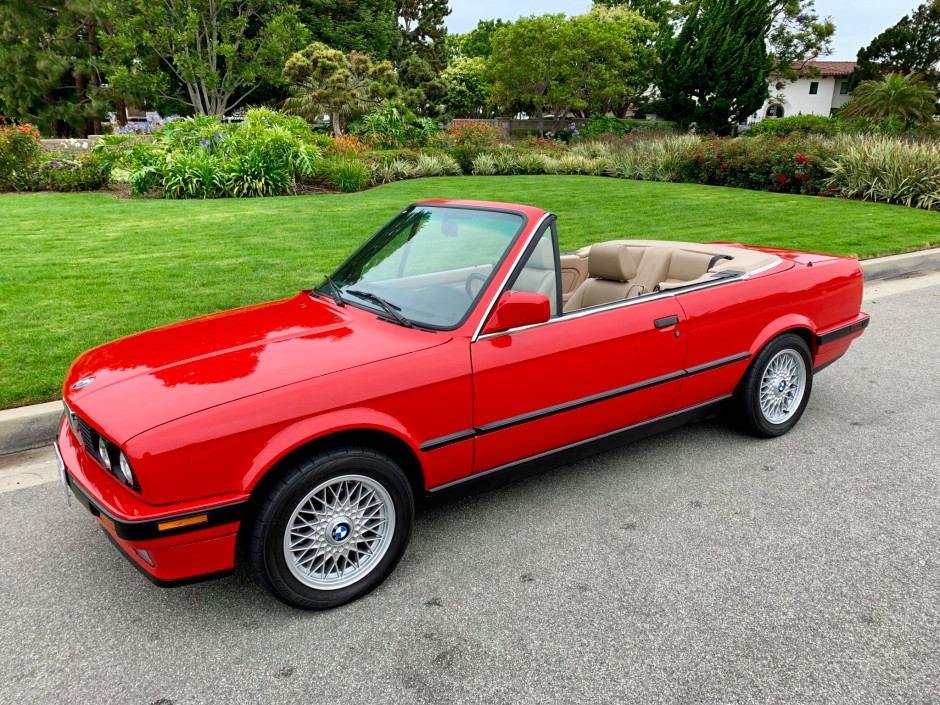car: (52, 198, 871, 613)
